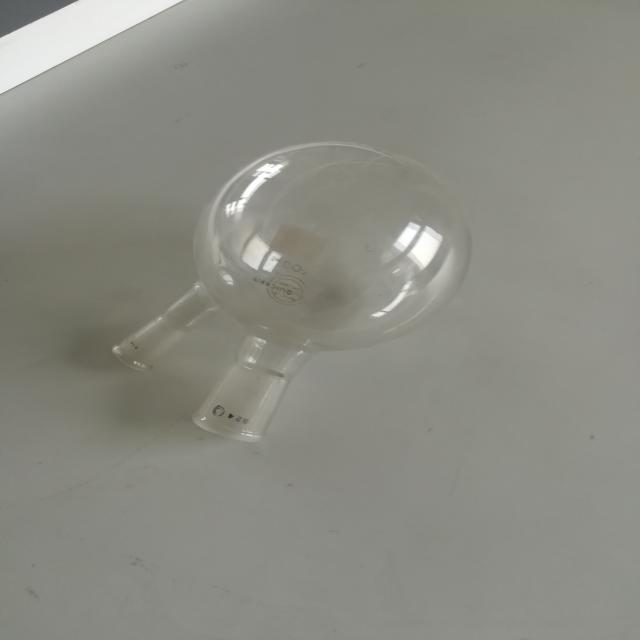Round_Bottom_Flask_Borosilicate_Glass_2_Neck: (76, 99, 526, 494)
